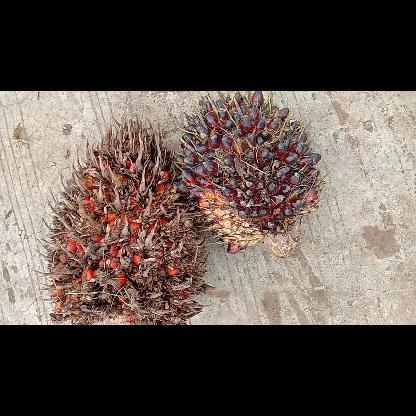TBS mentah: (174, 91, 326, 256)
Terlalu masak: (35, 113, 214, 324)
